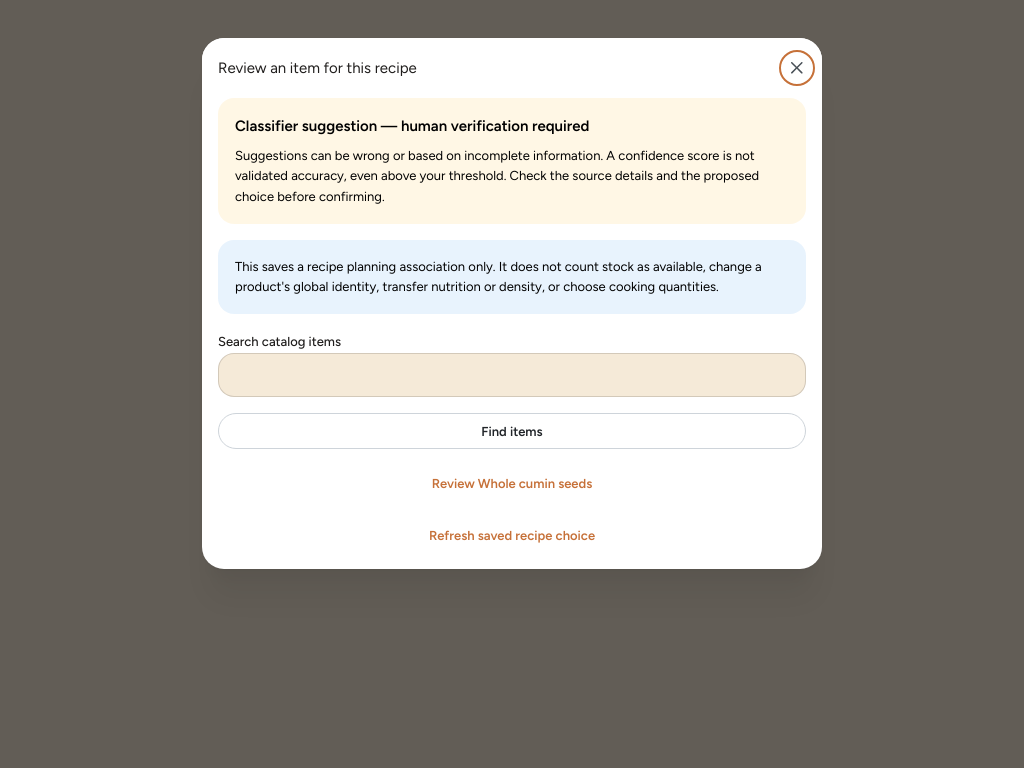
Test case: Recipe-scoped evidence review › keeps a negative result visibly negative and records a separate deliberate human choice
Click the button "Review Whole cumin seeds" at (512, 484), box [218,466,806,502]
(page scrolled)
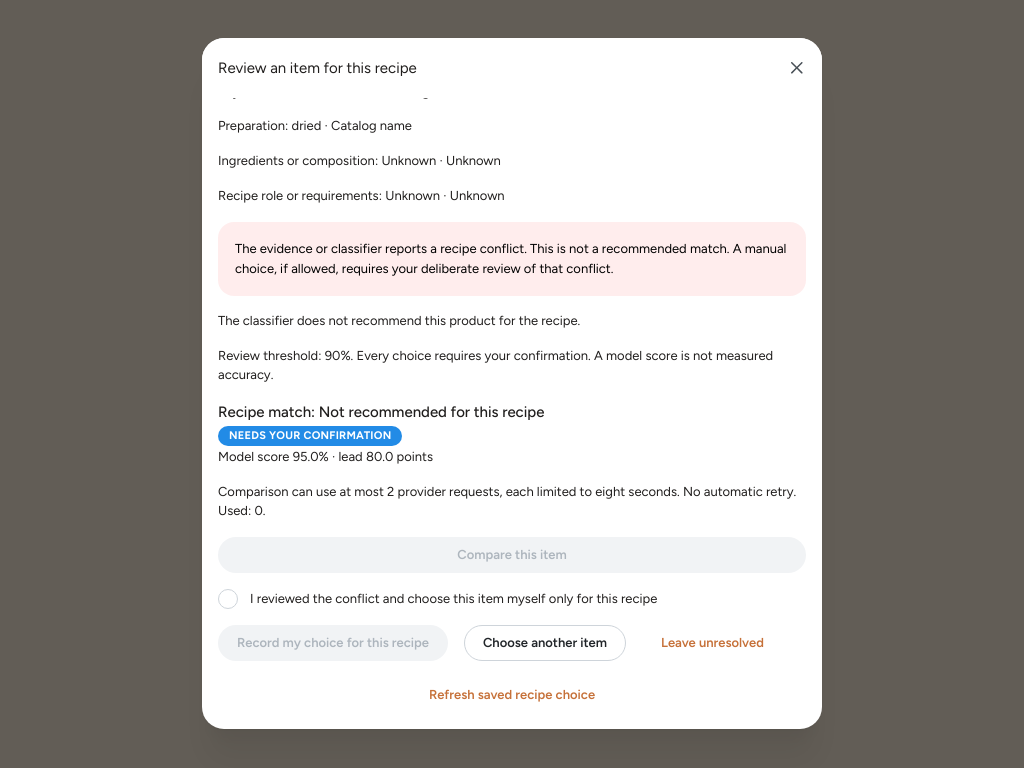
Now the text "Recipe match: Not recommended for this recipe" is shown, box [218,403,544,421]
Now the button "Record my choice for this recipe" is disabled, box [218,625,448,661]
Click the checkbox labelled "I reviewed the conflict and choose this item myself only for this recipe" at (228, 599), box [218,589,238,609]
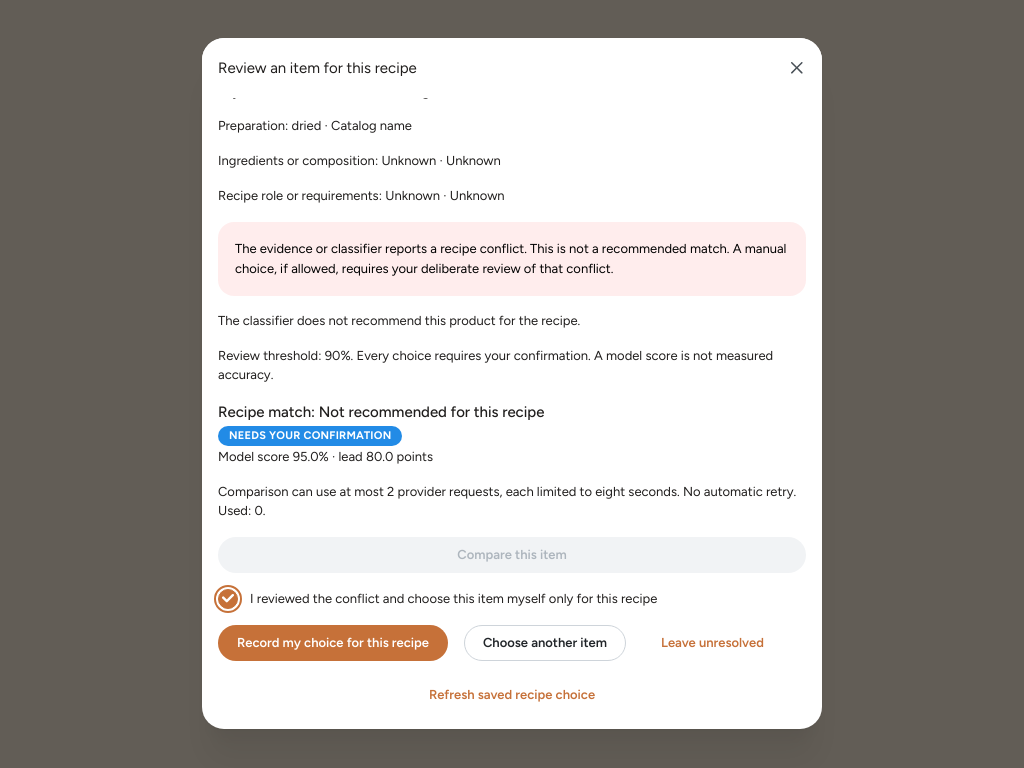
Now the button "Record my choice for this recipe" is enabled, box [218,625,448,661]
